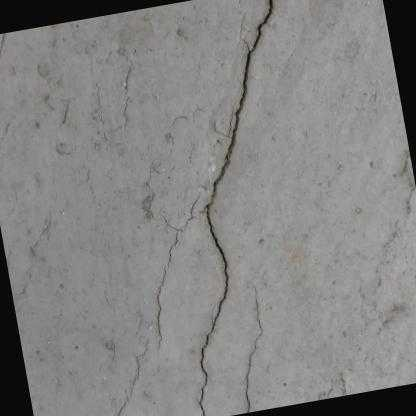crack: (198, 0, 274, 416)
